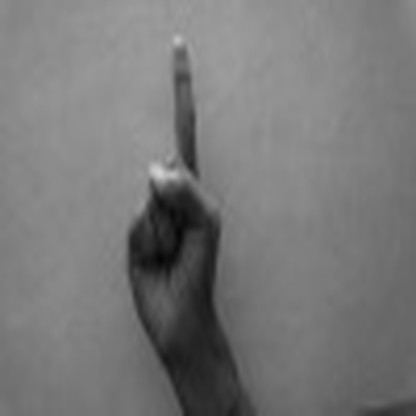d: (111, 27, 234, 354)
